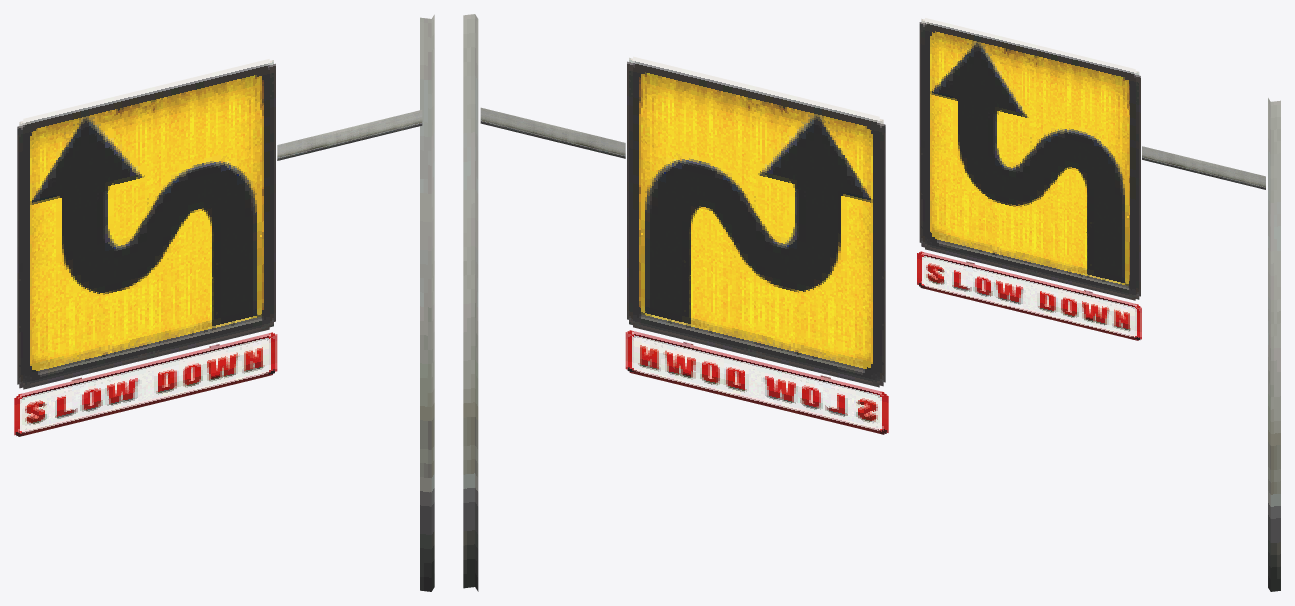
The model's file is stage-yose-p4-43.glb.
The picture shows the model from 3 angles, left to right: view 1: azimuth 30°, elevation 25°; view 2: azimuth 150°, elevation 25°; view 3: azimuth 330°, elevation 25°; orthographic projection. The views are drawn at different scales.
Size of the model in its own units: 8.04 by 10.41 by 0.1415.
Materials: 3 (3 with a texture image).
